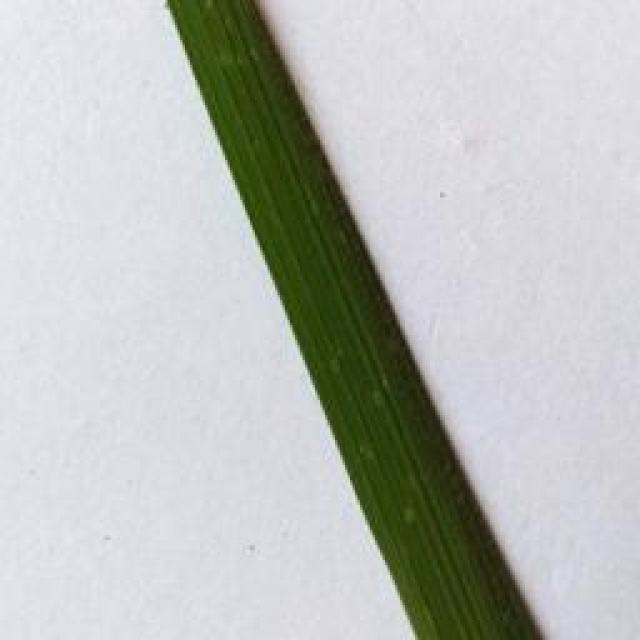Healthy-Plant: (166, 0, 541, 640)
